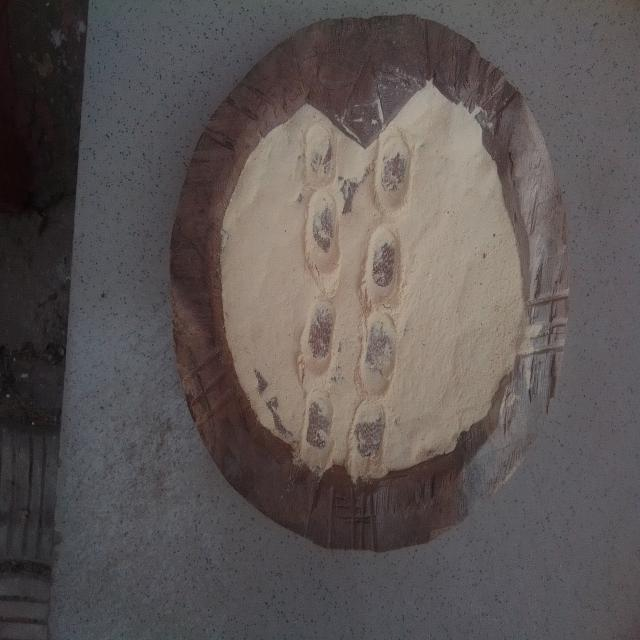single: (363, 218, 408, 311), (358, 305, 401, 398), (304, 187, 344, 286), (299, 290, 341, 380), (348, 393, 392, 474), (376, 132, 414, 220), (301, 382, 340, 467), (305, 120, 340, 192)
